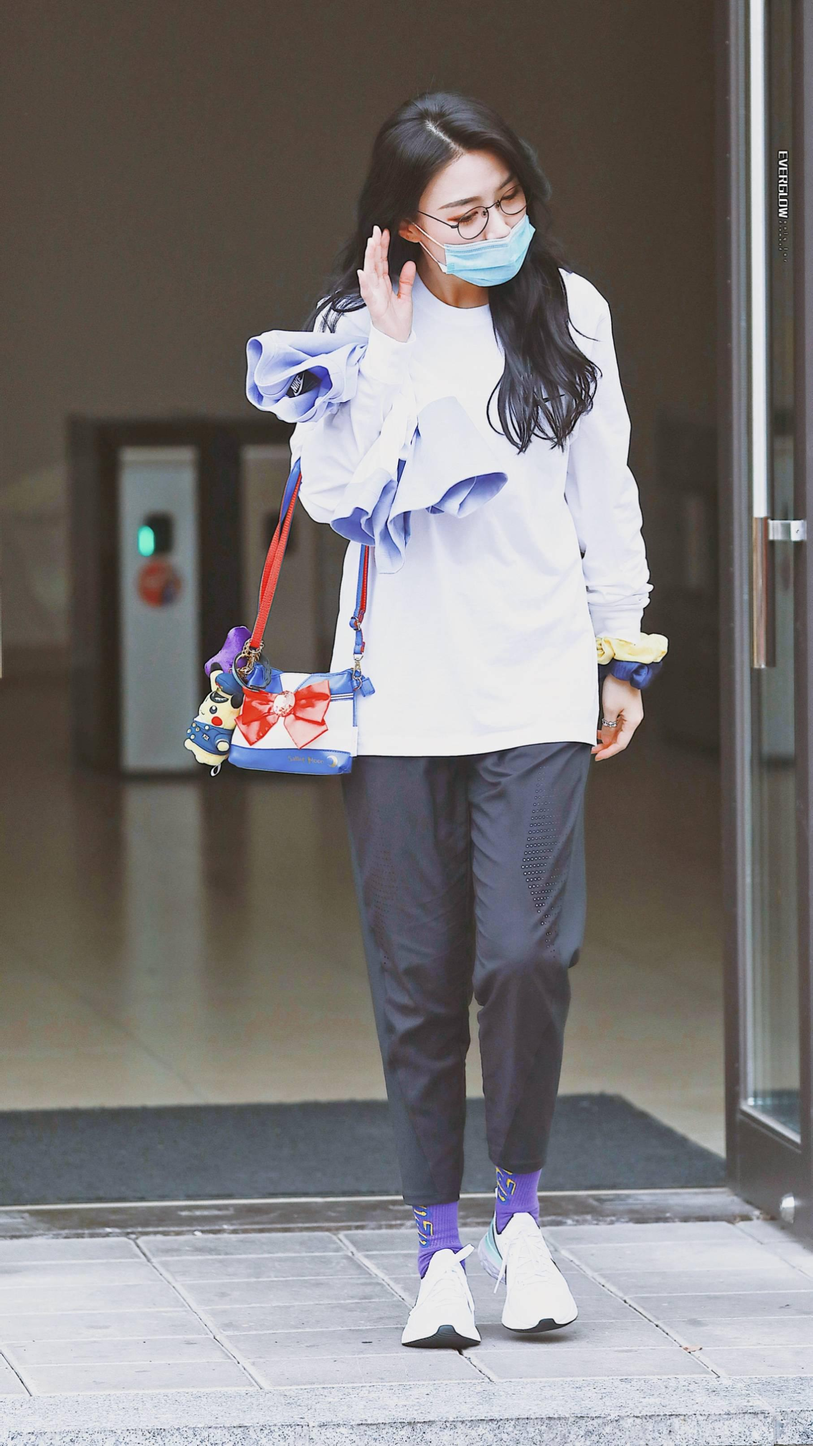WRONG: (431, 166, 532, 285)
